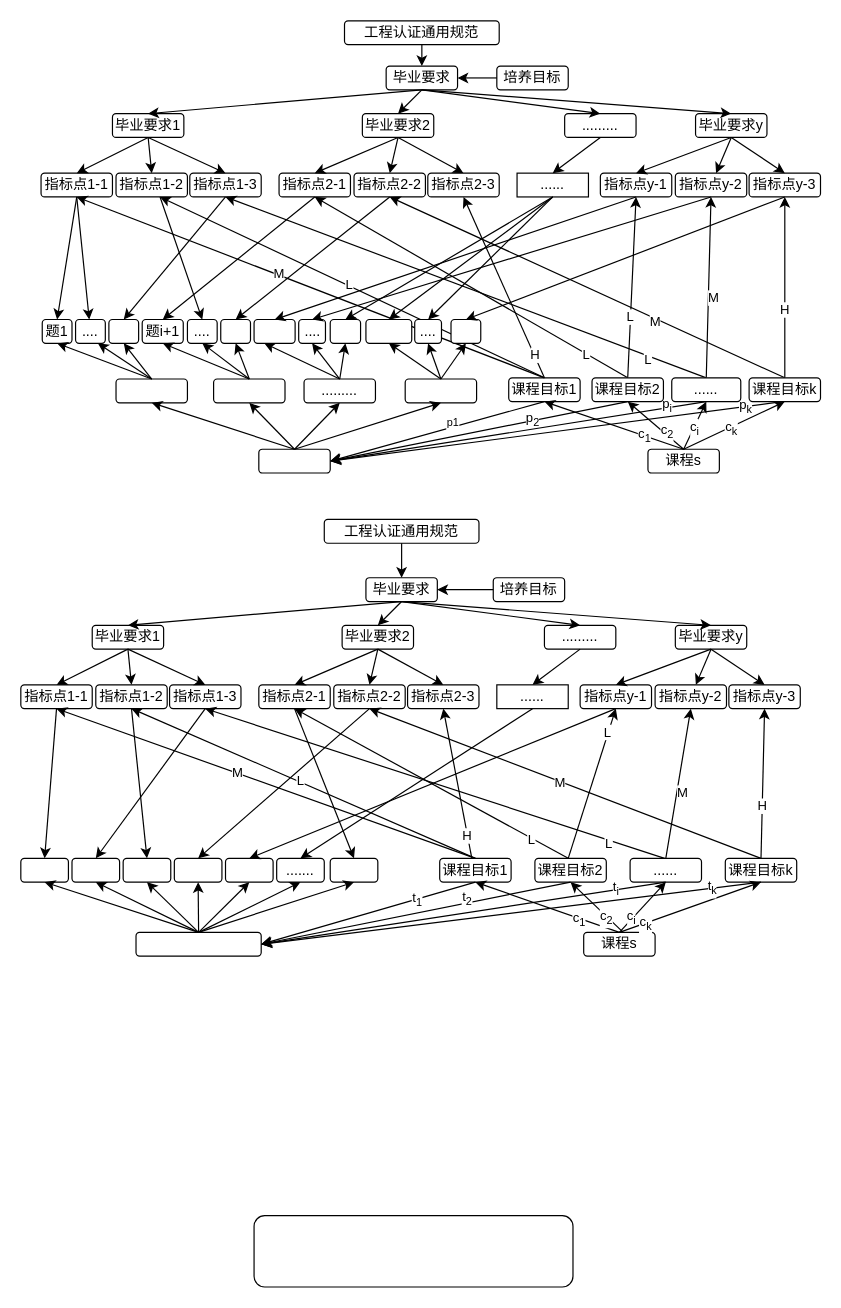
Image size: 841x1308. Some labels were removed from this diagram. The centre of each missing label's shape, as x and y in pixels:
"基础数据设定：录入学校信息、课程类别、课程性质、" belongs at point (413, 1250).
"大题1" belongs at point (151, 390).
"大题2" belongs at point (248, 390).
"大题n" belongs at point (440, 390).
"工具1" belongs at point (44, 869).
"工具2" belongs at point (95, 869).
"工具3" belongs at point (146, 869).
"工具4" belongs at point (197, 869).
"工具5" belongs at point (248, 869).
"工具m" belongs at point (353, 869).
"试卷p" belongs at point (294, 460).
"过程性评估工具s" belongs at point (198, 943).
"题i" belongs at point (123, 330).
"题j" belongs at point (235, 330).
"题j+1" belongs at point (274, 330).
"题m" belongs at point (465, 330).
"题x" belongs at point (345, 330).
"题x+1" belongs at point (388, 330).
